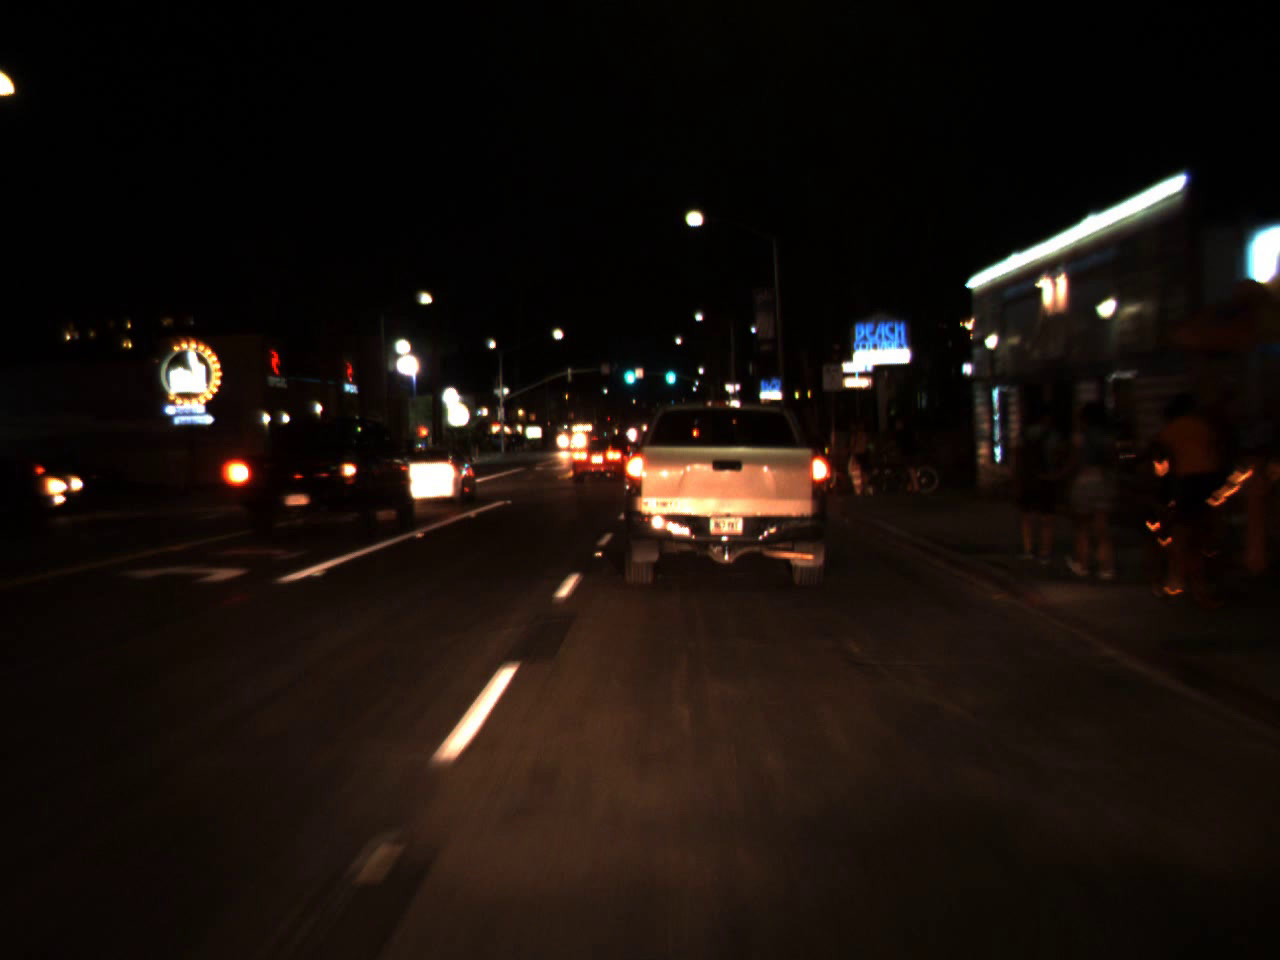go: (619, 355, 638, 388), (661, 354, 677, 390)
